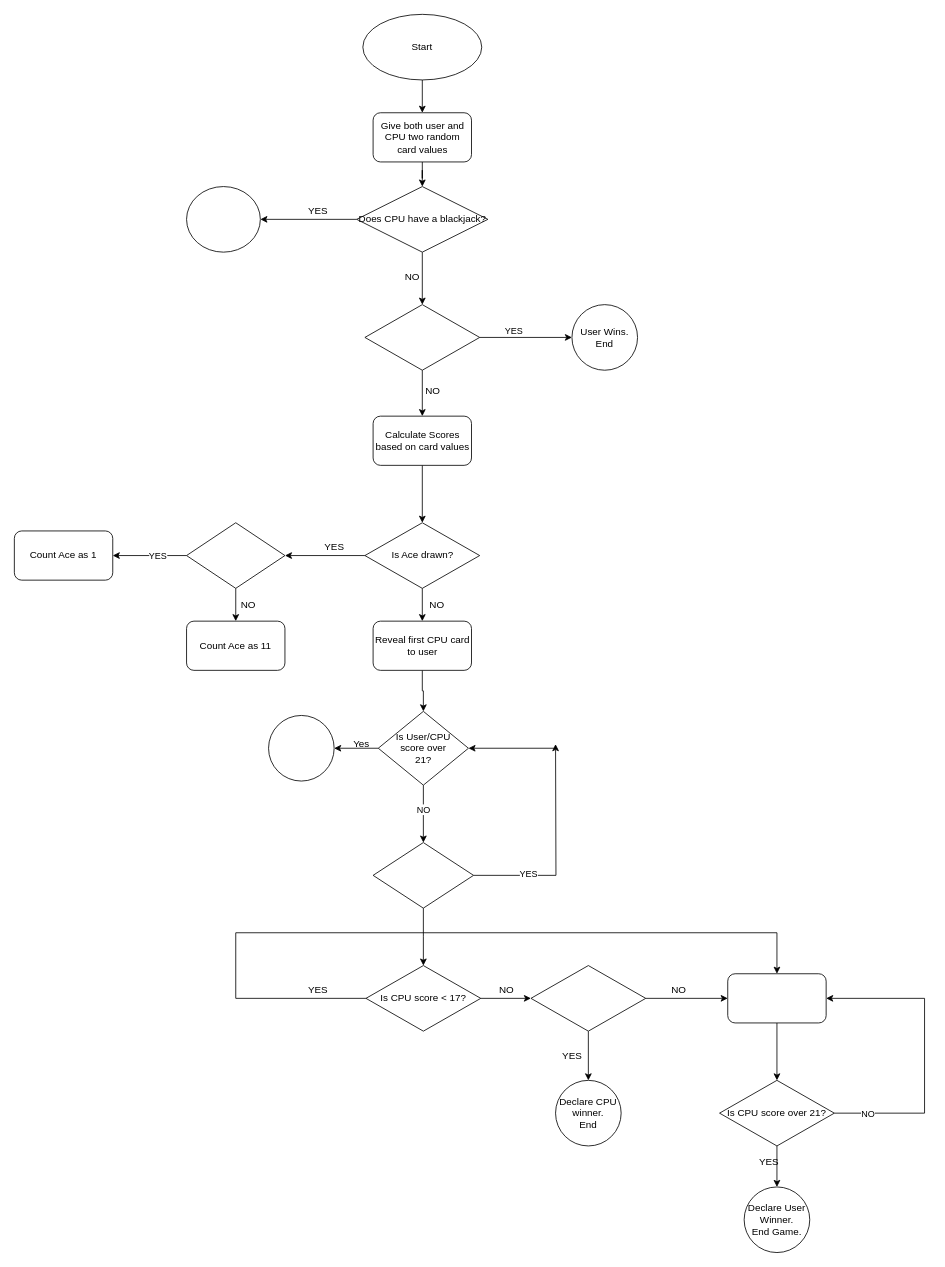
The diagram is 945 pixels wide and 1267 high, and some of its shapes have lost their labels. The centre of each missing label's shape, as x and y in pixels:
"CPU wins. End" belongs at pixel 223 219.
"Declare winner. End" belongs at pixel 301 748.
"Does user have a blackjack?" belongs at pixel 422 337.
"Does user want to draw another card?" belongs at pixel 423 875.
"Draw Card" belongs at pixel 776 998.
"Is CPU score > user score?" belongs at pixel 588 998.
"Is total over 21?" belongs at pixel 235 555.
